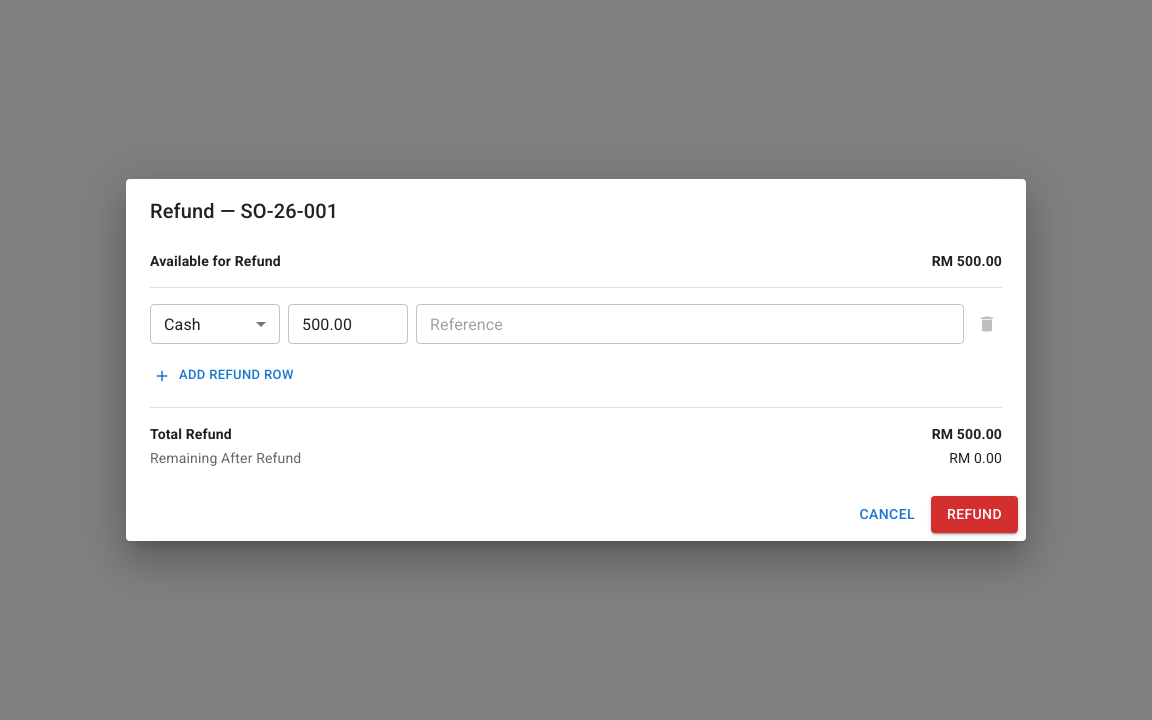
RefundDialog › submit error shows error alert and does not close dialog
Step 1. Replace the text in the number field with placeholder "Amount" with "100" → coordinates (348, 324), box [288,304,408,344]
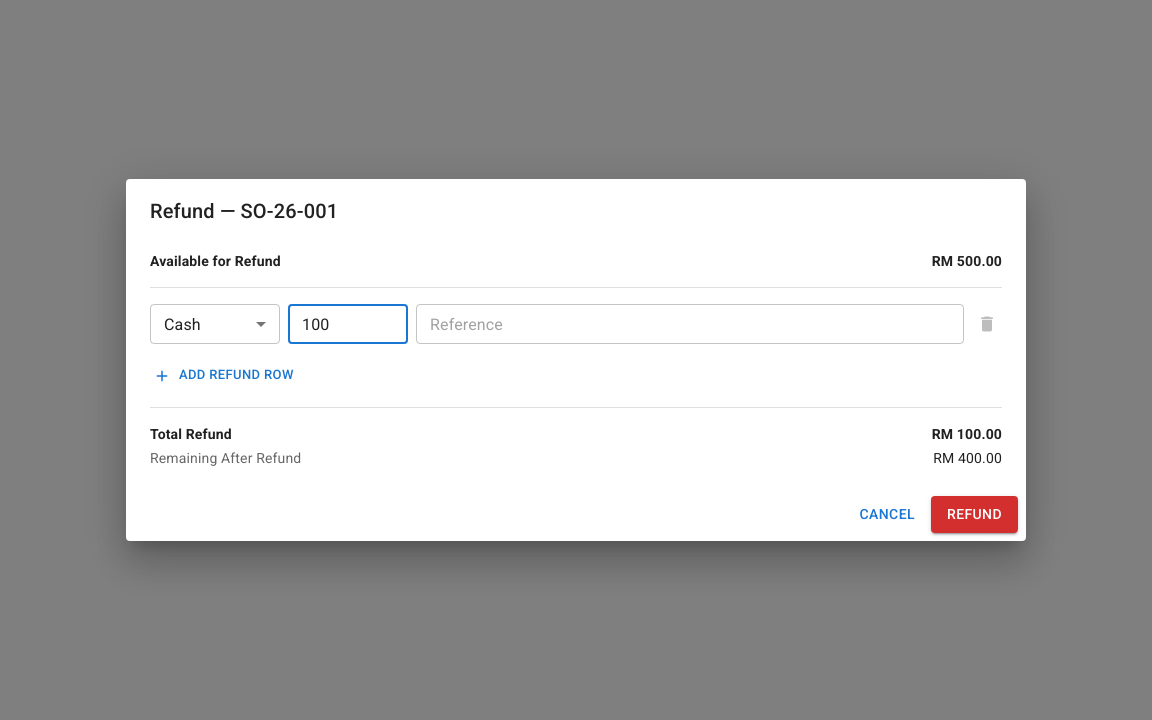
Step 2. Click the button "Refund" → coordinates (974, 514), box [931,496,1018,533]
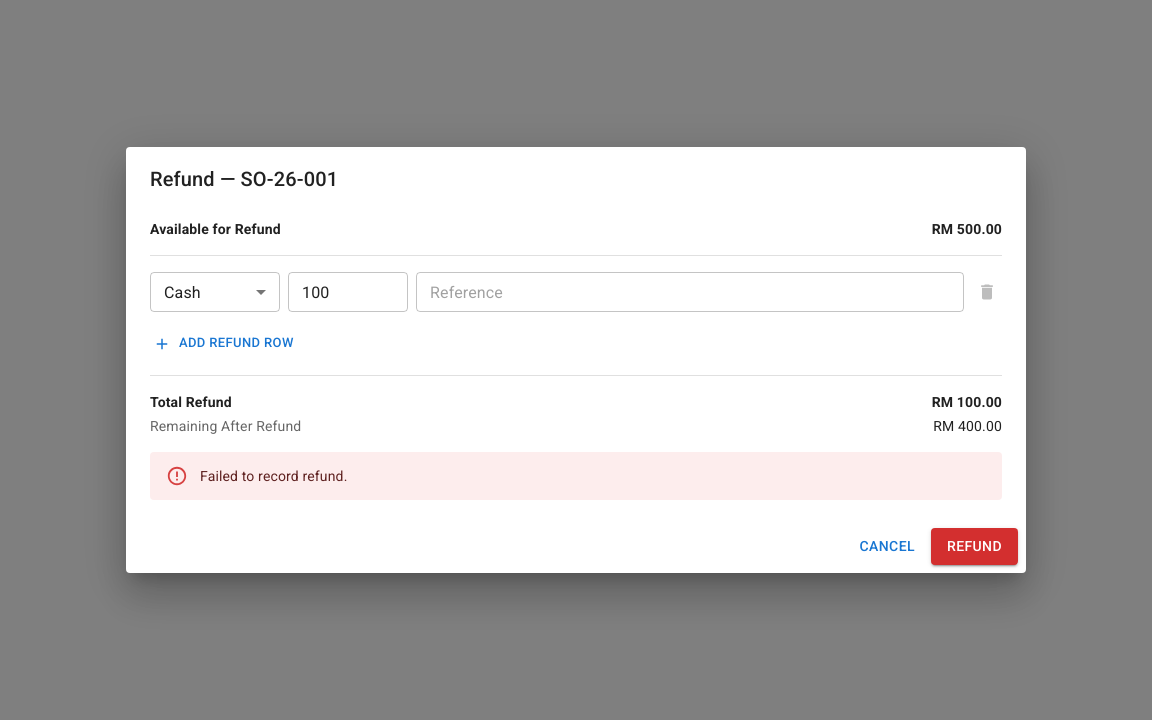
Check: the message "Failed to record refund." is shown, box [150,452,1002,500]
